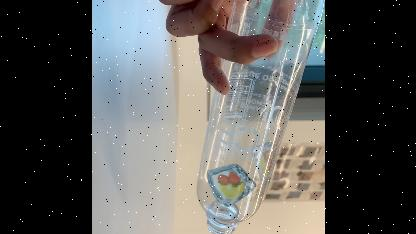Plastic Bottle: (193, 0, 324, 234)
